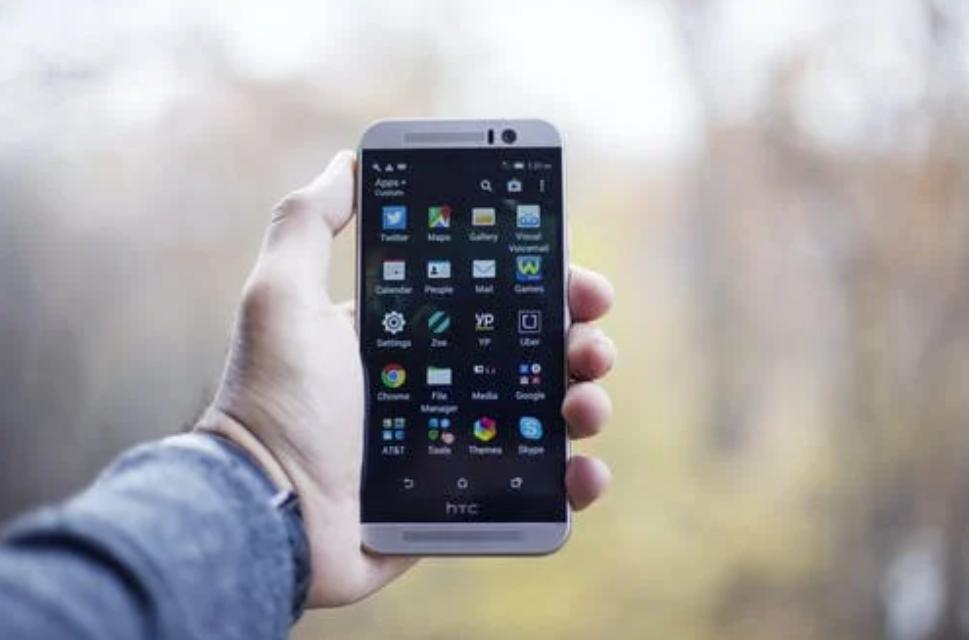mobile: (355, 119, 570, 556)
